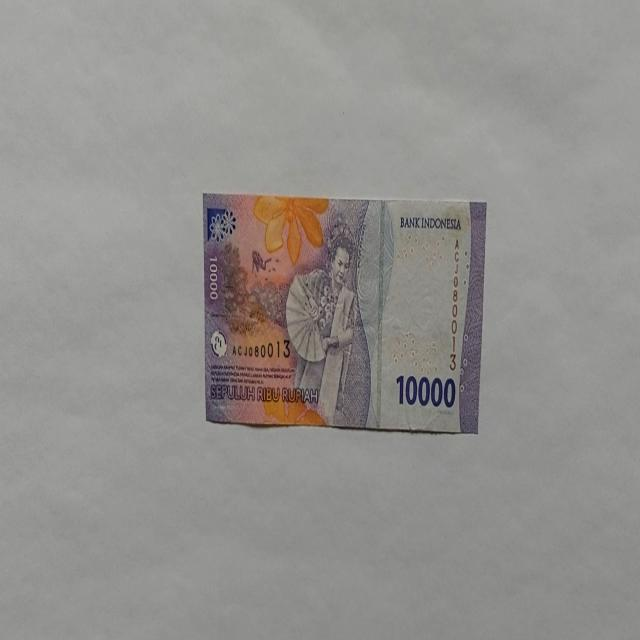sepuluh ribu rupiah: (202, 192, 486, 434)
